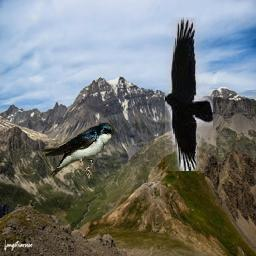Crow: (165, 17, 213, 171)
Swallow: (39, 121, 115, 179)
